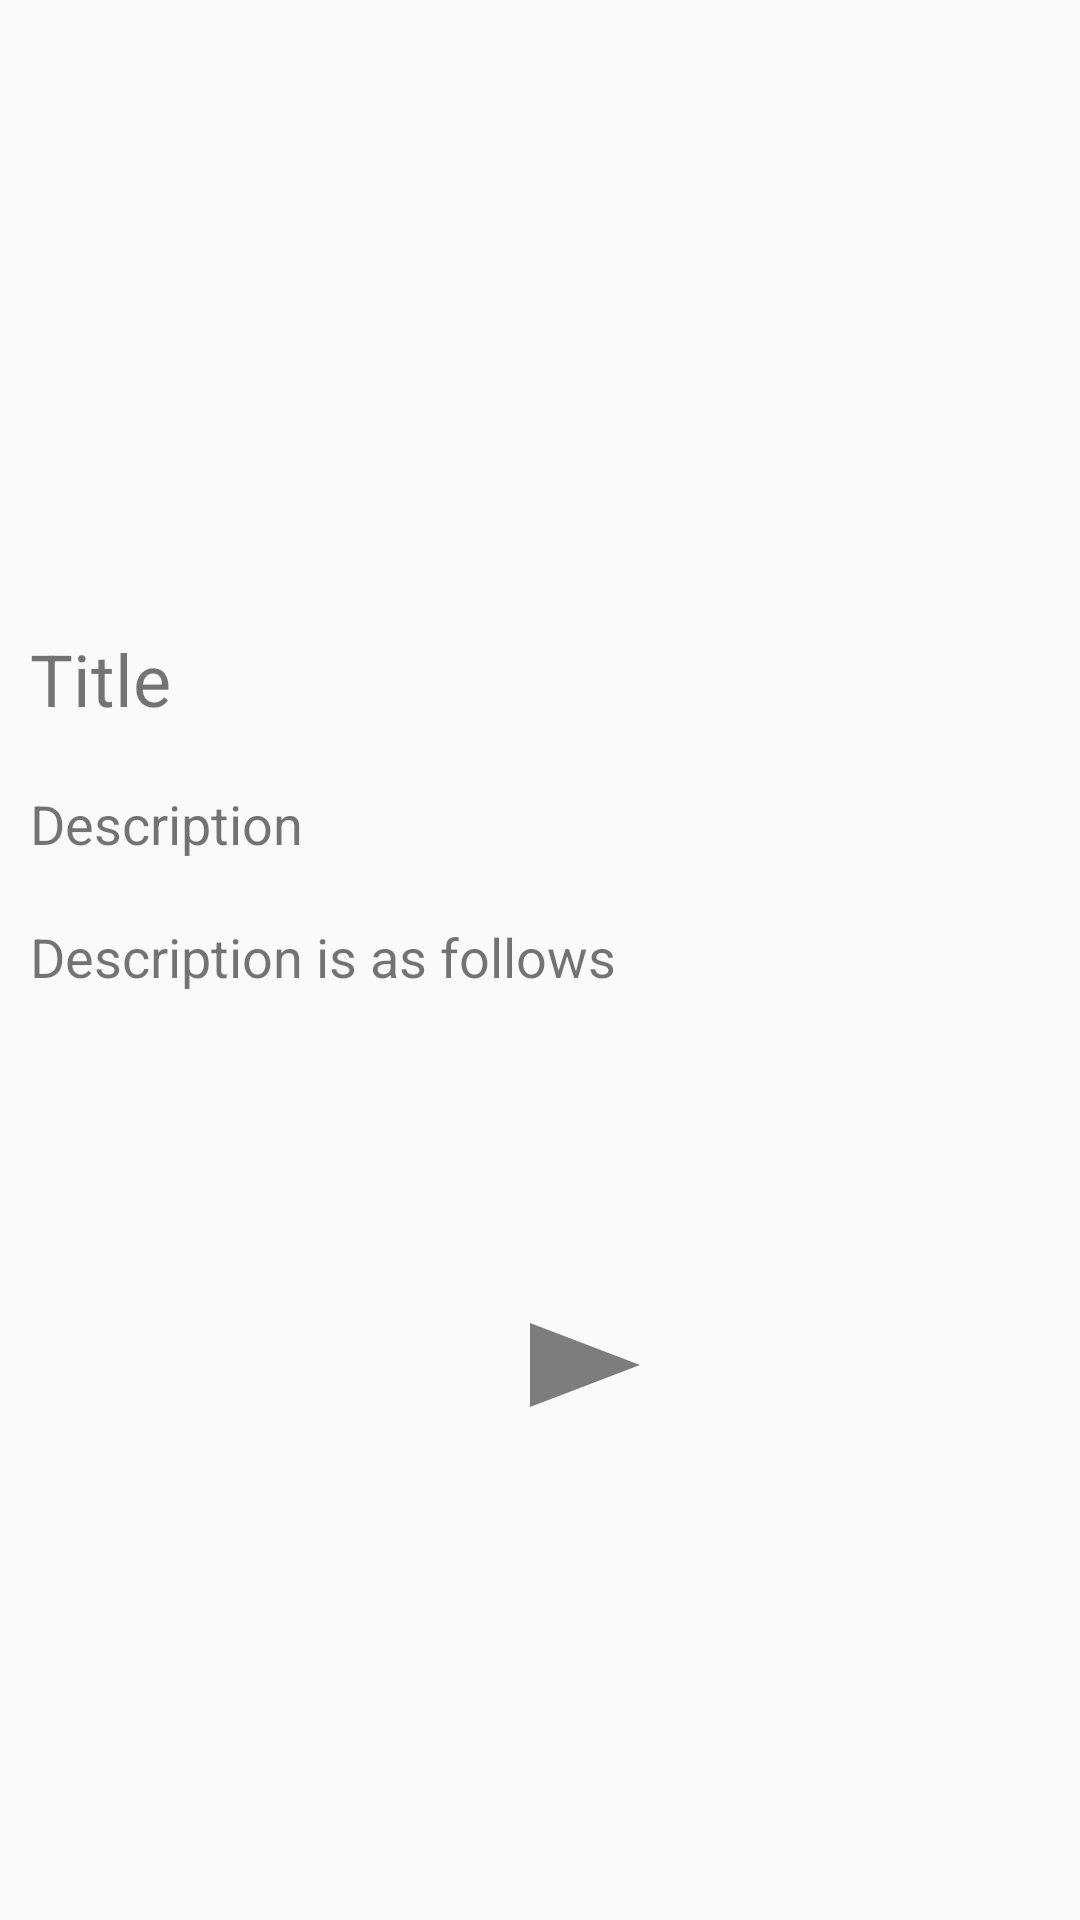

Screen size 1080w x 1920h. Icon name, then its center in pixels as [x,y]:
playbutton: [584,1365]
